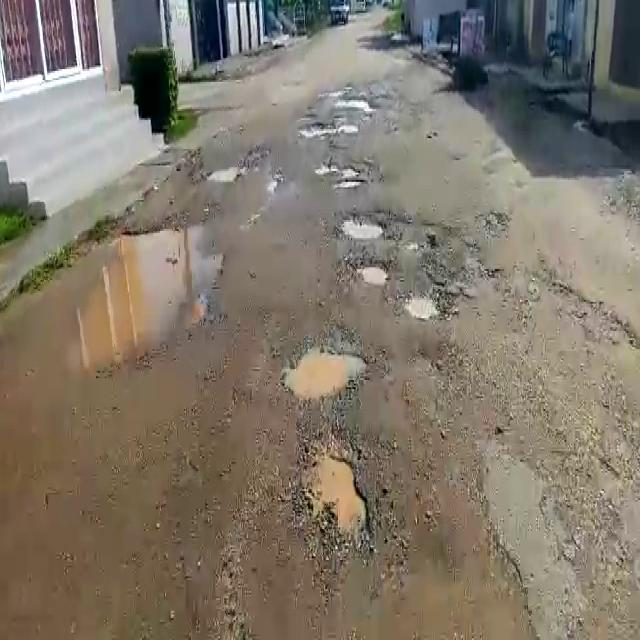pothole: (8, 222, 222, 376), (294, 437, 378, 548), (282, 341, 368, 403), (399, 289, 449, 319), (343, 211, 386, 241), (316, 165, 366, 190), (351, 259, 393, 286), (301, 118, 358, 136)
